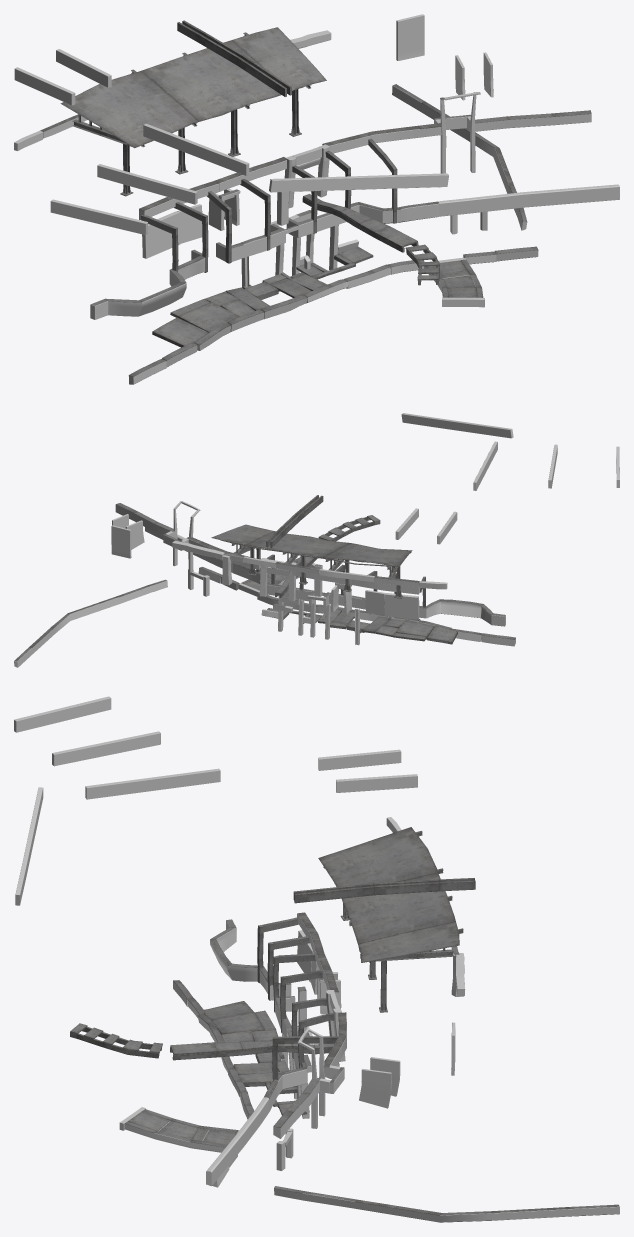
3 renders of one model, top to bottom at view 1: azimuth 30°, elevation 25°; view 2: azimuth 150°, elevation 25°; view 3: azimuth 270°, elevation 25°, orthographic. The views are drawn at different scales.
Visible parts, largest first — view 1: Cube.028; view 2: Cube.028; view 3: Cube.028.
Boxes of the visible parts, <box> form: Cube.028: <box>14,14,619,384</box>; Cube.028: <box>14,413,619,667</box>; Cube.028: <box>14,696,619,1222</box>.
Bounding box in the file's own units: 7659 × 2787 × 6398.
